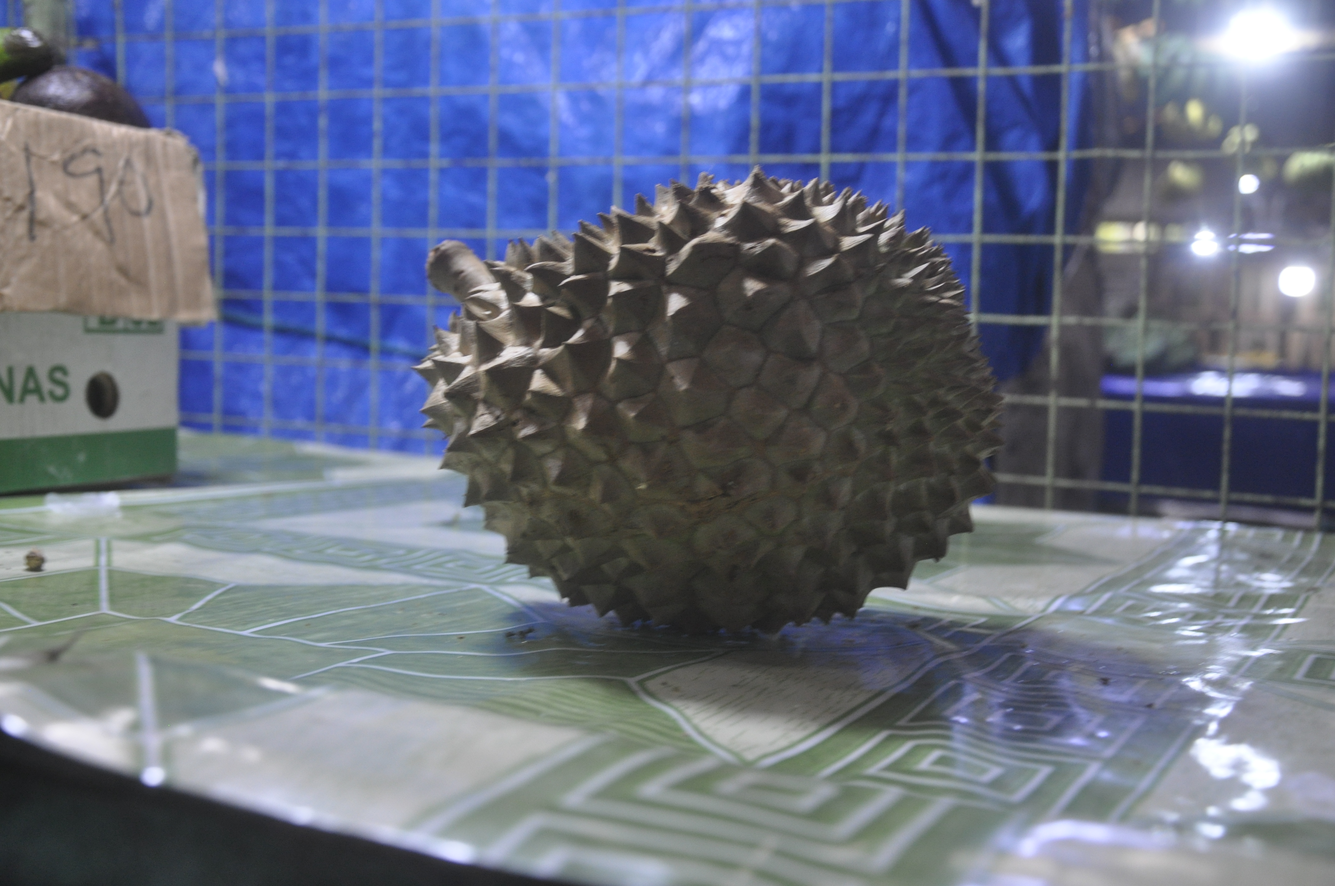mature: (417, 168, 1000, 632)
